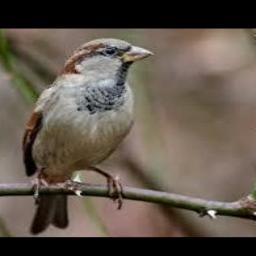Sparrow: (24, 38, 154, 234)
